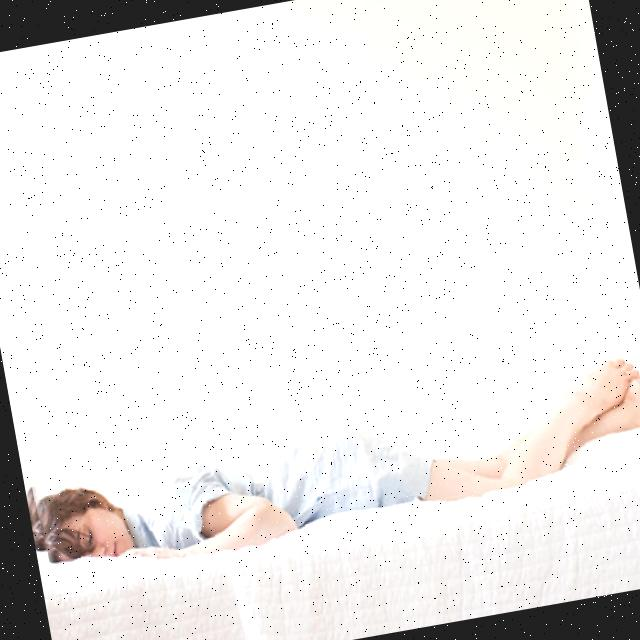people: (3, 253, 640, 596)
